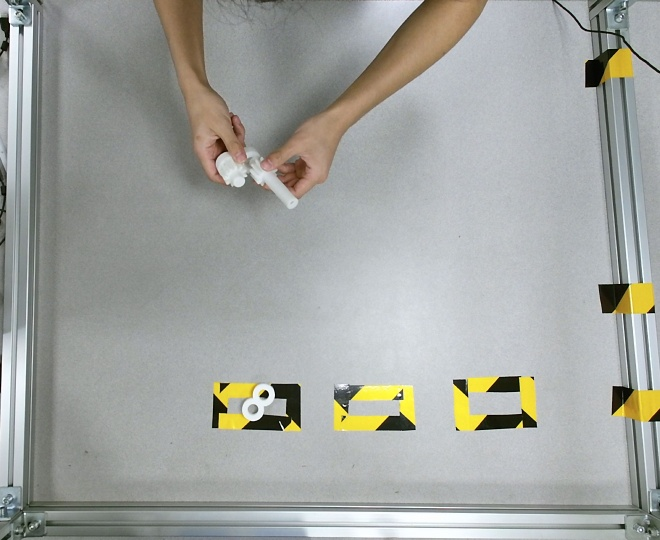stage_2: (215, 145, 263, 186)
